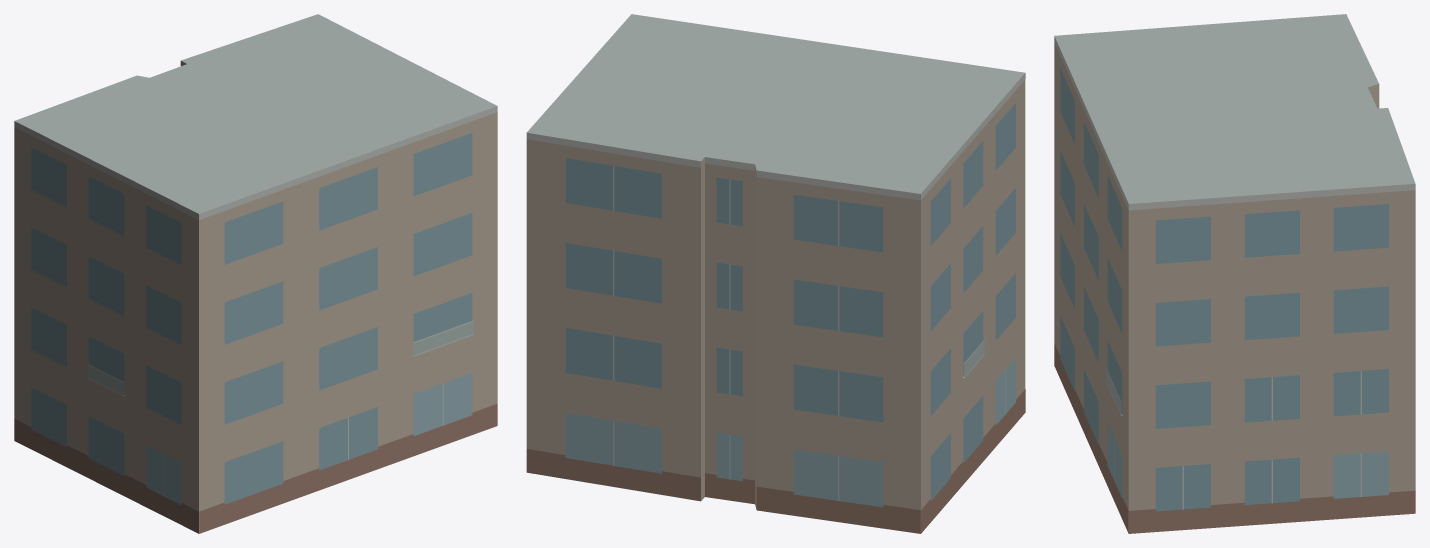
Rendered from survey-upis-32676065.glb.
3 renders of one model, left to right at view 1: azimuth 30°, elevation 25°; view 2: azimuth 150°, elevation 25°; view 3: azimuth 270°, elevation 25°, orthographic. The views are drawn at different scales.
Visible parts, largest first — view 1: survey-upis-32676065.tmp; view 2: survey-upis-32676065.tmp; view 3: survey-upis-32676065.tmp.
Boxes of the visible parts, box(x1,y1,x2,y2) form: survey-upis-32676065.tmp: box(14, 14, 497, 533); survey-upis-32676065.tmp: box(526, 14, 1025, 533); survey-upis-32676065.tmp: box(1054, 14, 1415, 533).
Size of the model in its own units: 15.71 by 12.7 by 12.62.
